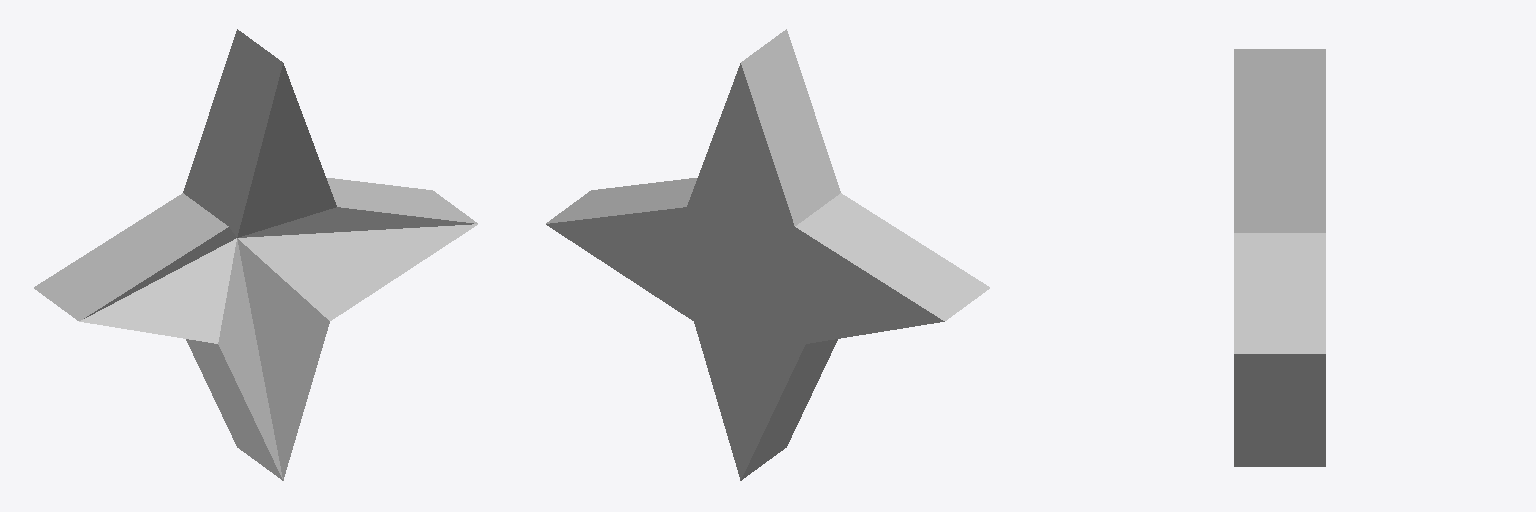
File: original-34.obj
3 renders of one model, left to right at view 1: azimuth 30°, elevation 25°; view 2: azimuth 150°, elevation 25°; view 3: azimuth 270°, elevation 25°, orthographic.
Parts seen in each view (by area): view 1: #ID5; view 2: #ID5; view 3: #ID5.
Boxes of the visible parts, <box> form: #ID5: <box>34,29,477,480</box>; #ID5: <box>546,29,989,480</box>; #ID5: <box>1234,49,1325,466</box>.
Size of the model in its own units: 0.0961 by 0.0961 by 0.0192.